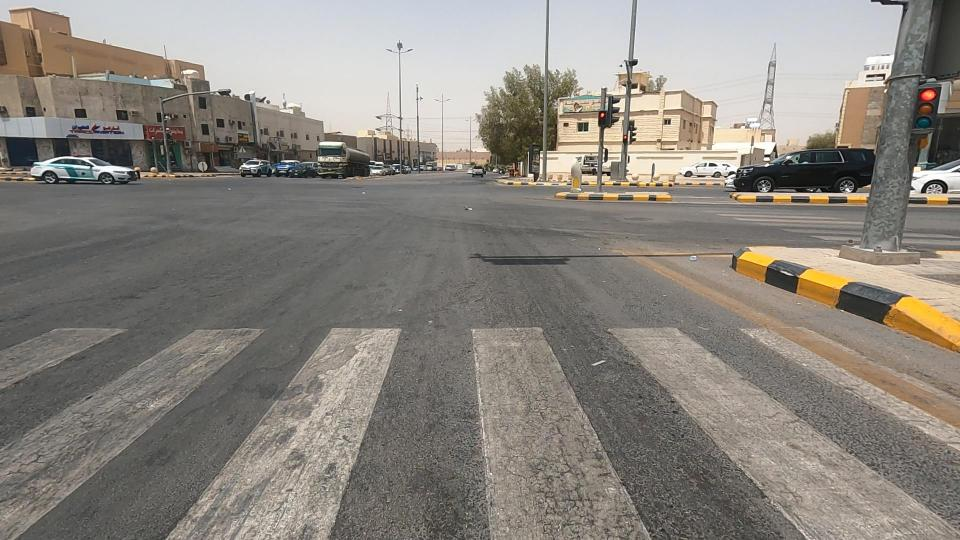GARBAGE: (673, 237, 712, 281), (454, 190, 488, 226)
